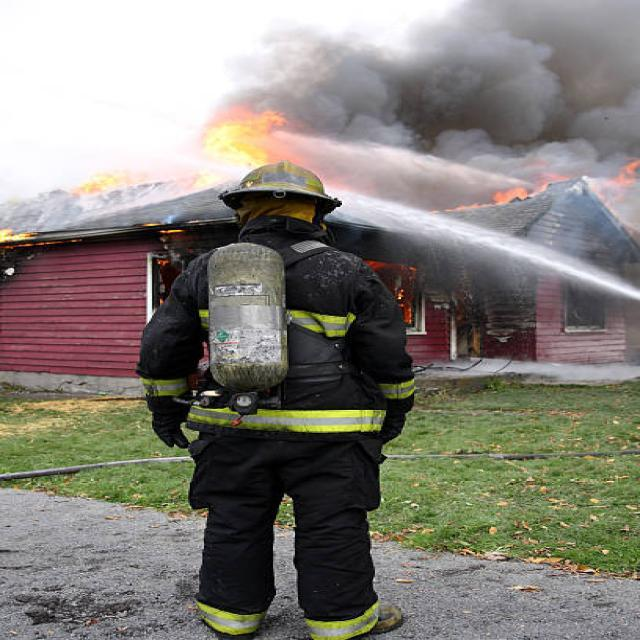Fire: (208, 0, 638, 208), (455, 162, 640, 212), (204, 110, 288, 170), (363, 258, 420, 332), (78, 167, 146, 197)
